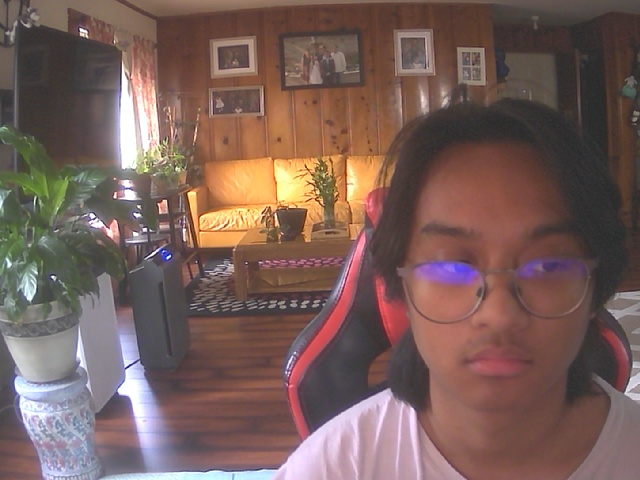neutral: (392, 101, 609, 421)
